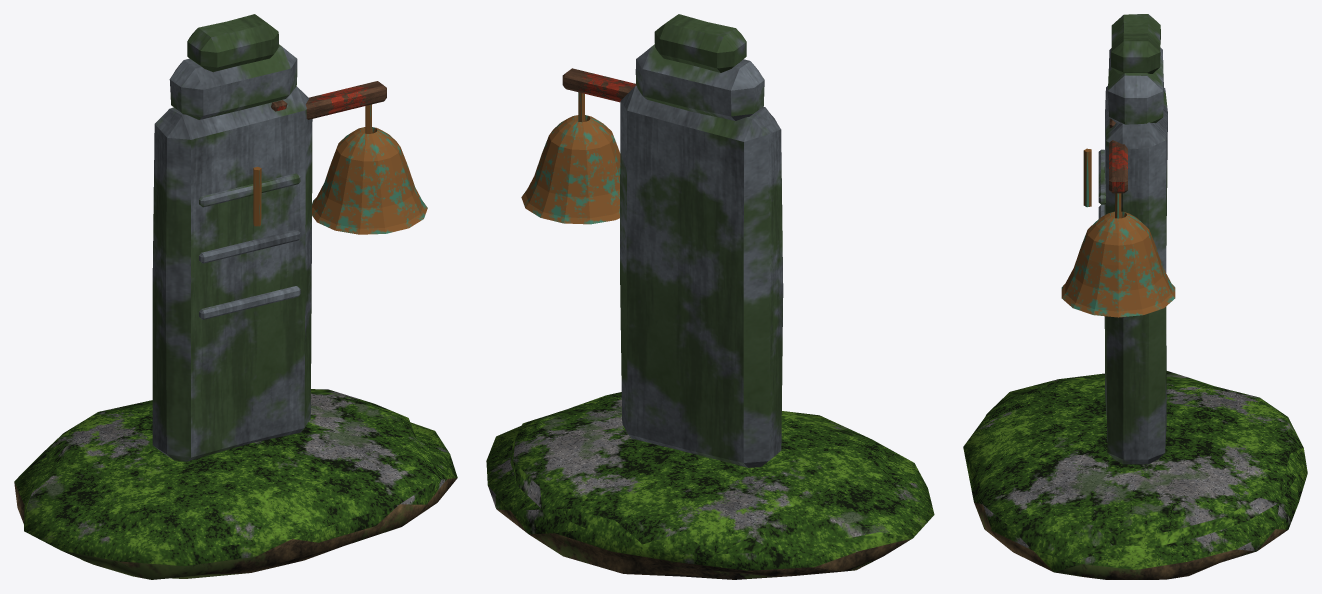
File: Bell_Grave_A.glb
3 views of the same model, side by side, from view 1: azimuth 30°, elevation 25°; view 2: azimuth 150°, elevation 25°; view 3: azimuth 270°, elevation 25° (orthographic). The views are drawn at different scales.
Parts seen in each view (by area): view 1: Bell_Grave_A__Stone, Bell_Grave_A__Mound, Bell_Grave_A__Bronze, Bell_Grave_A__Timber; view 2: Bell_Grave_A__Stone, Bell_Grave_A__Mound, Bell_Grave_A__Bronze, Bell_Grave_A__Timber; view 3: Bell_Grave_A__Mound, Bell_Grave_A__Stone, Bell_Grave_A__Bronze, Bell_Grave_A__Timber.
Boxes of the visible parts, x1,y1,x2,y2 form: Bell_Grave_A__Stone: [152, 14, 312, 461]; Bell_Grave_A__Mound: [14, 389, 457, 579]; Bell_Grave_A__Bronze: [253, 104, 427, 234]; Bell_Grave_A__Timber: [271, 81, 386, 119]; Bell_Grave_A__Stone: [620, 14, 783, 467]; Bell_Grave_A__Mound: [486, 392, 934, 579]; Bell_Grave_A__Bronze: [521, 92, 620, 224]; Bell_Grave_A__Timber: [562, 68, 636, 102]; Bell_Grave_A__Mound: [963, 371, 1307, 579]; Bell_Grave_A__Stone: [1098, 14, 1167, 464]; Bell_Grave_A__Bronze: [1061, 148, 1175, 317]; Bell_Grave_A__Timber: [1109, 119, 1127, 193].
Bounding box in the file's own units: 5.35 × 6.16 × 3.97.
Materials: 4 (4 with a texture image).
